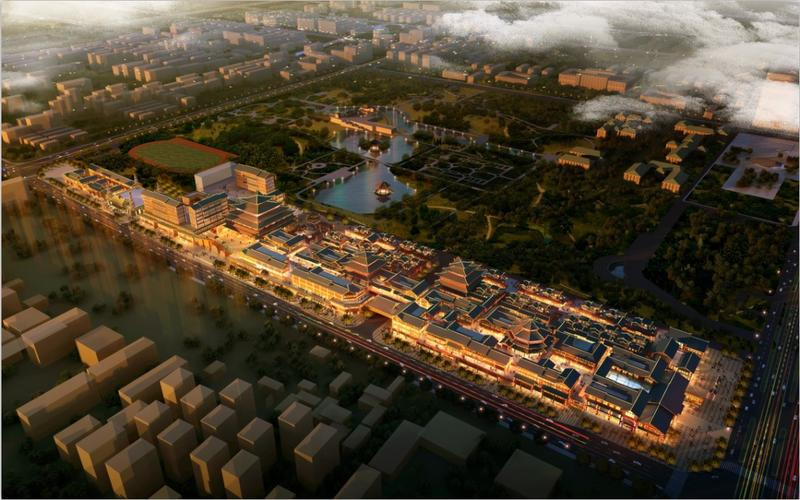buildings: (327, 241, 696, 472), (33, 142, 412, 354)
